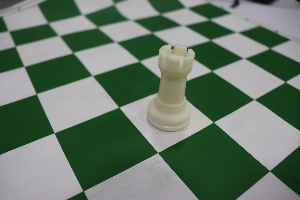white_rook: (141, 31, 199, 145)
